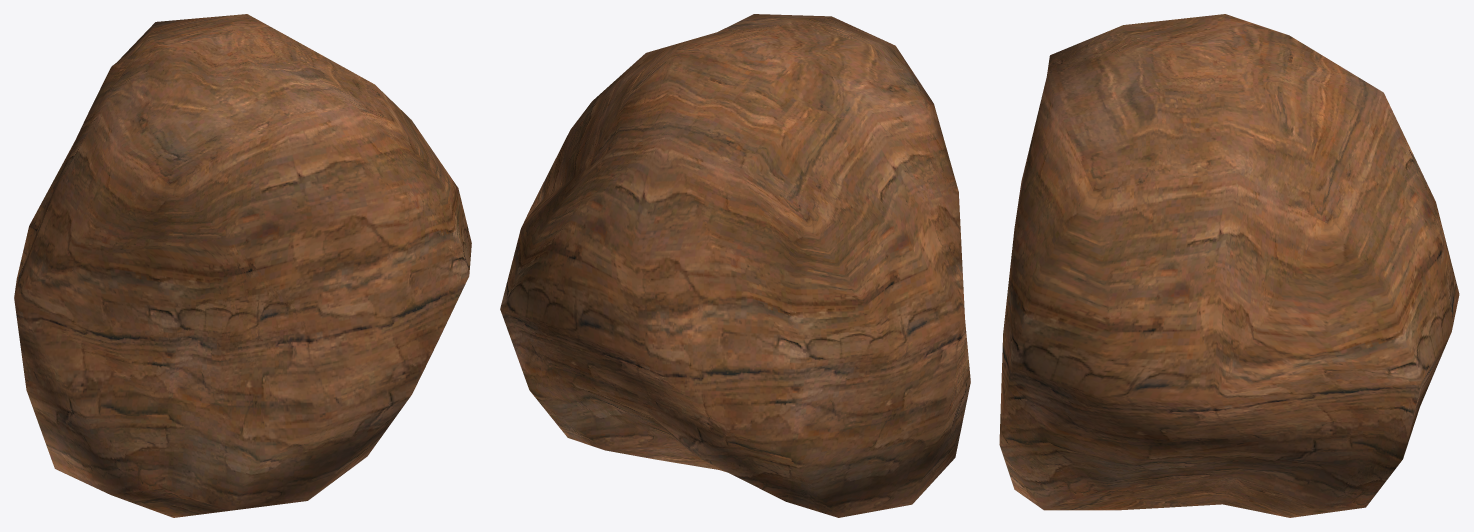
File: rock_tatt_jundland_boulder_l0.fbx
The picture shows the model from 3 angles, left to right: view 1: azimuth 30°, elevation 25°; view 2: azimuth 150°, elevation 25°; view 3: azimuth 270°, elevation 25°; orthographic projection. The views are drawn at different scales.
Parts seen in each view (by area): view 1: mesh_node; view 2: mesh_node; view 3: mesh_node.
Boxes of the visible parts, x1=… form: mesh_node: x1=14, y1=14, x2=471, y2=517; mesh_node: x1=500, y1=14, x2=970, y2=517; mesh_node: x1=999, y1=14, x2=1459, y2=517.
Bounding box in the file's own units: 2.71 × 2.56 × 2.27.
